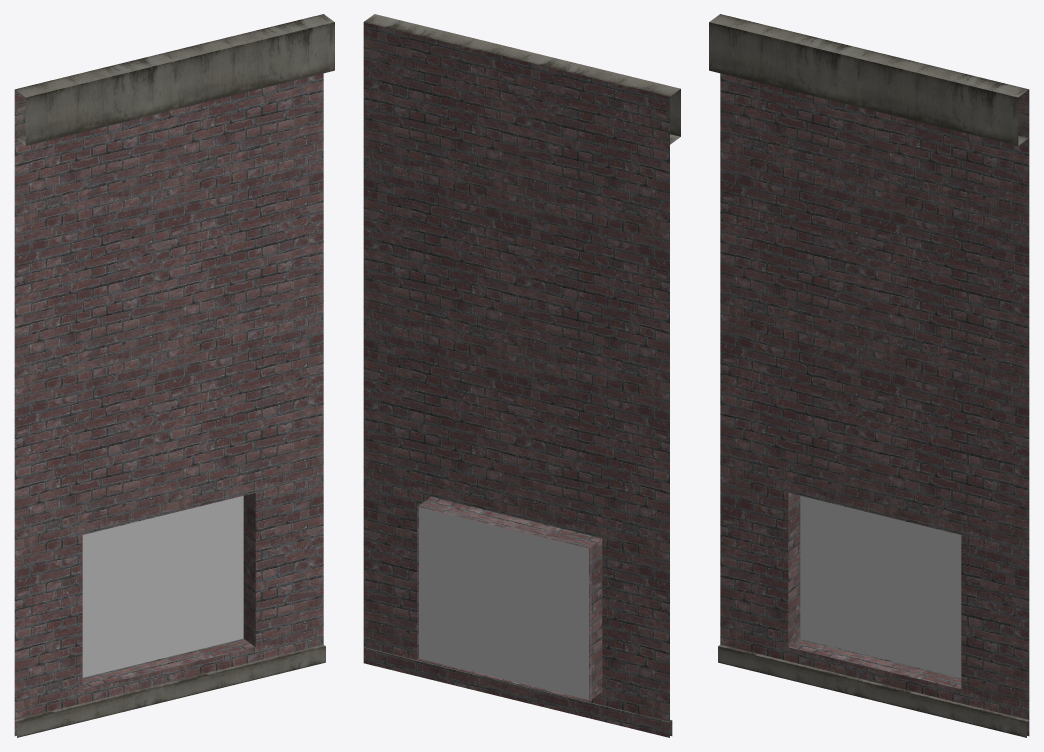
File: Wall_D_Brick_Window_J_2x.FBX
3 renders of one model, left to right at view 1: azimuth 30°, elevation 25°; view 2: azimuth 150°, elevation 25°; view 3: azimuth 330°, elevation 25°, orthographic.
Visible parts, largest first — view 1: Wall_D_Brick_Window_J_2x; view 2: Wall_D_Brick_Window_J_2x; view 3: Wall_D_Brick_Window_J_2x.
Boxes of the visible parts, left/top/right/bottom form: Wall_D_Brick_Window_J_2x: left=14, top=14, right=334, bottom=737; Wall_D_Brick_Window_J_2x: left=363, top=14, right=680, bottom=737; Wall_D_Brick_Window_J_2x: left=709, top=14, right=1029, bottom=737.
Size of the model in its own units: 200 by 400 by 27.78.
